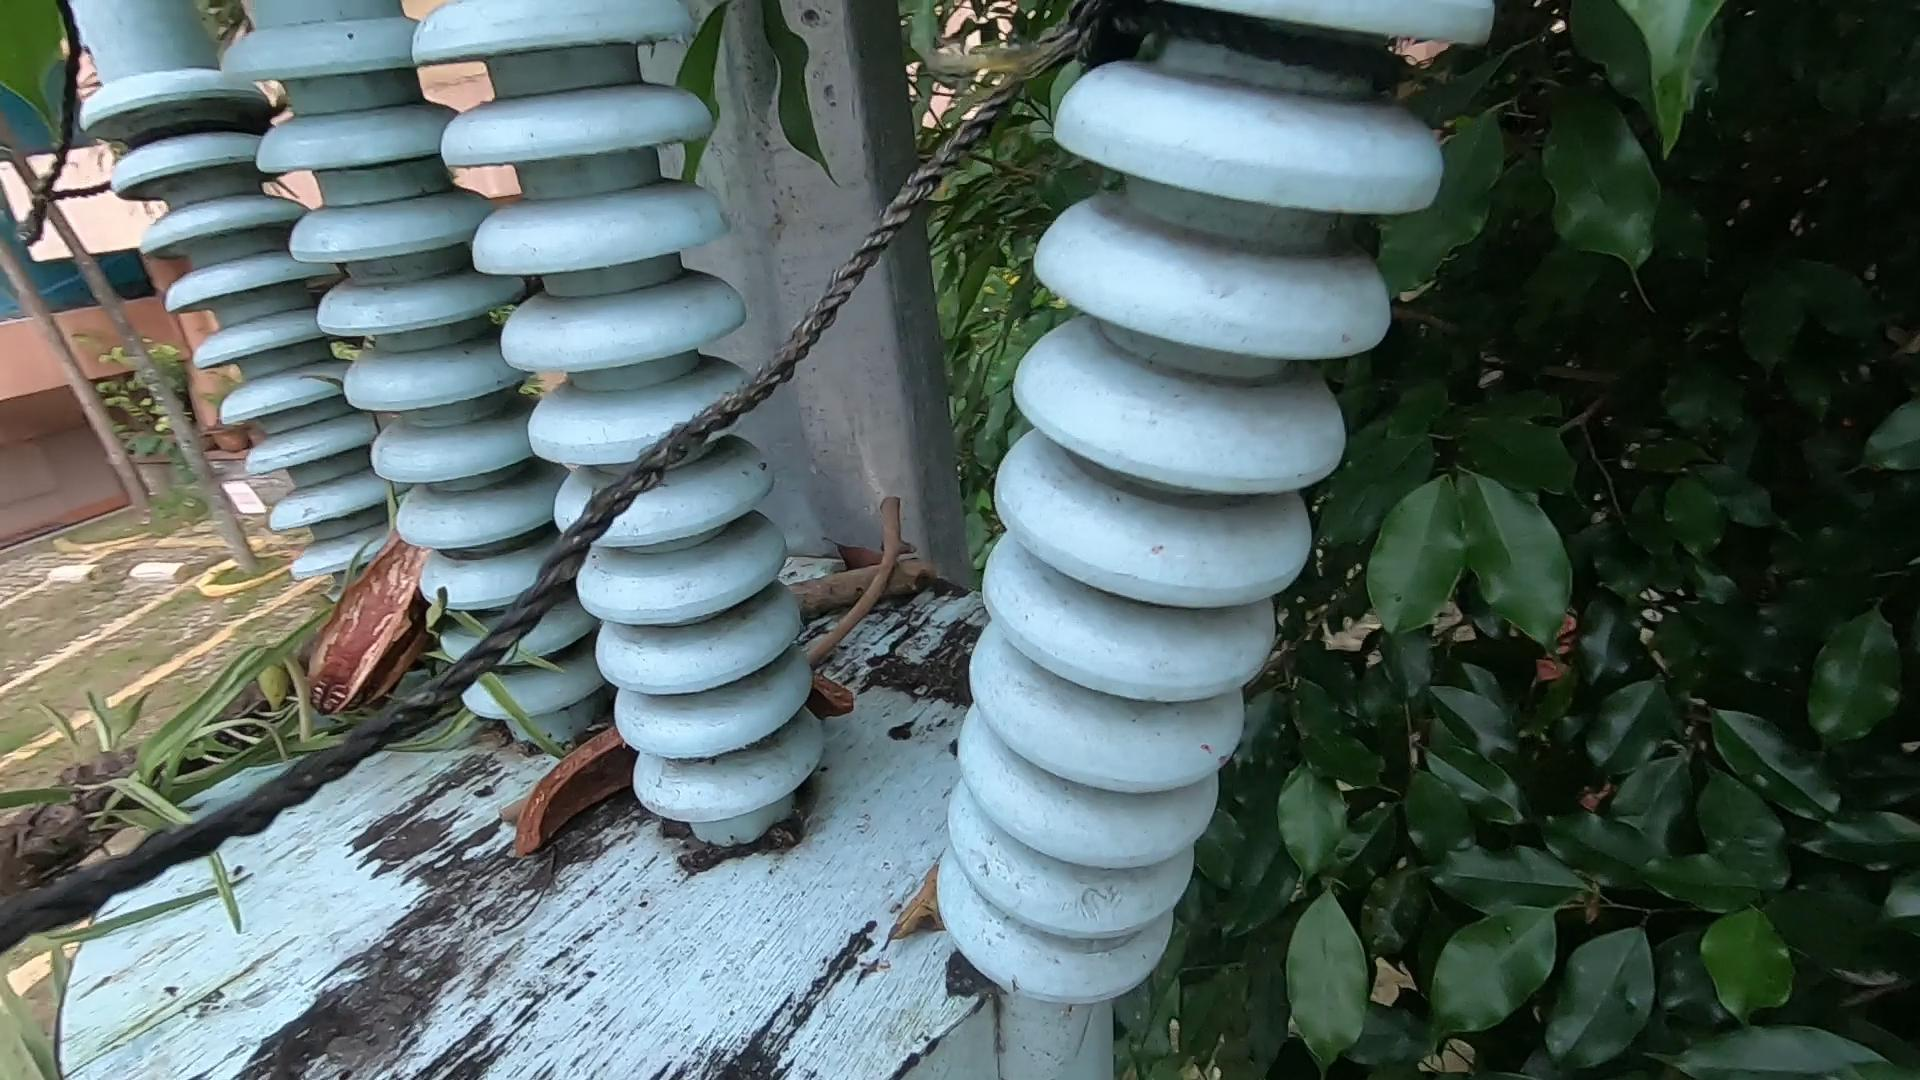branch with leaves: (54, 349, 688, 858)
leaf: (824, 847, 1033, 1005)
mahogany fruit: (287, 527, 553, 807), (533, 711, 691, 886)
tree branch: (774, 417, 963, 732)
